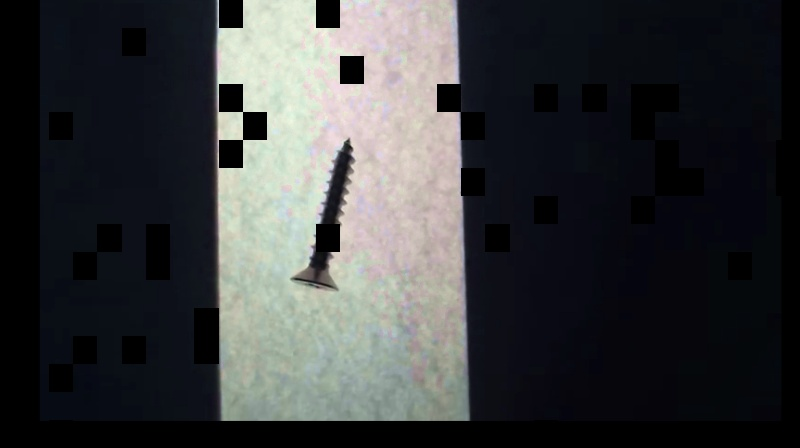S001: (286, 134, 359, 293)
